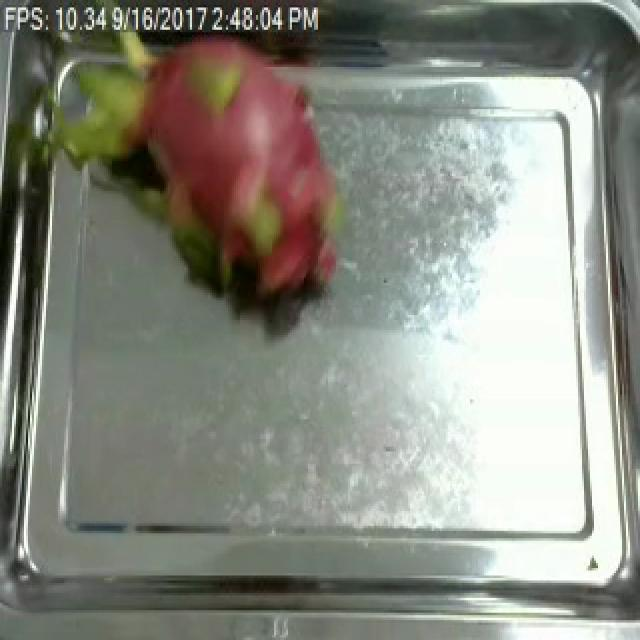fruit: (8, 0, 358, 332)
